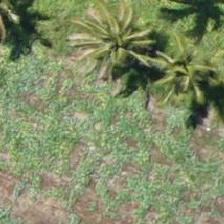Kelapa_Sawit: (70, 0, 160, 86), (140, 26, 223, 117)
